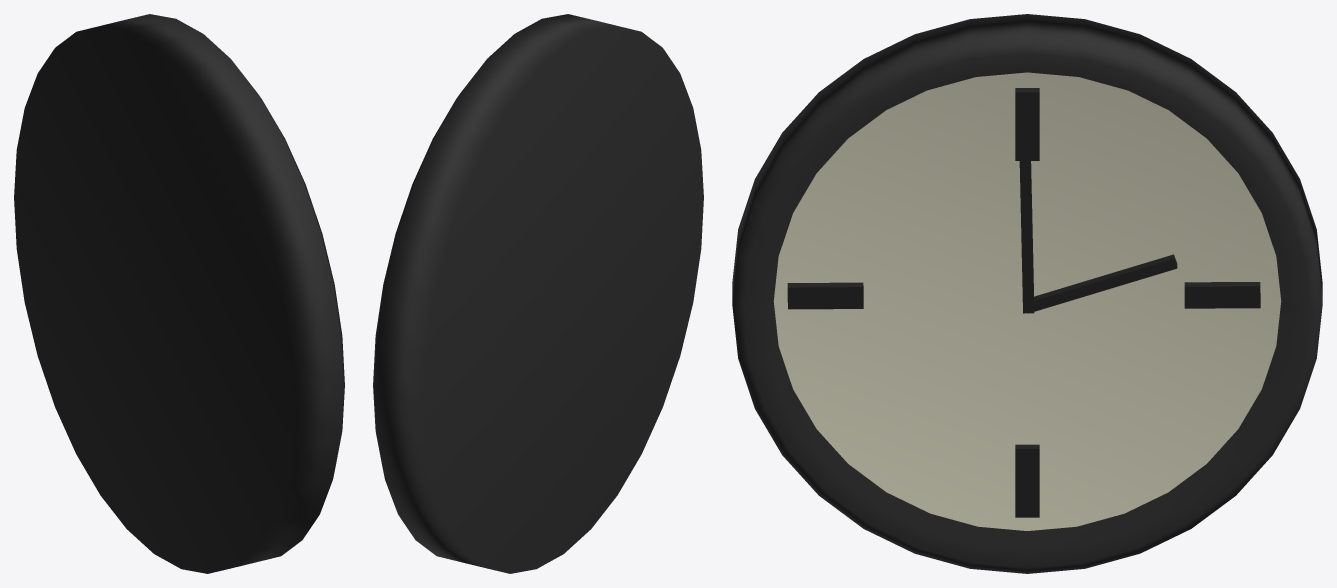
Rendered from clock 1.fbx.
The picture shows the model from 3 angles, left to right: view 1: azimuth 30°, elevation 25°; view 2: azimuth 150°, elevation 25°; view 3: azimuth 270°, elevation 25°; orthographic projection. The views are drawn at different scales.
Parts seen in each view (by area): view 1: Cylinder; view 2: Cylinder; view 3: Cylinder, Cube.005, Cube.004, Cube.003, Cube.002, Cube.001, Cube.
Boxes of the visible parts, <box> form: Cylinder: <box>14,14,344,573</box>; Cylinder: <box>373,14,703,573</box>; Cylinder: <box>732,14,1322,573</box>; Cube.005: <box>1018,102,1034,313</box>; Cube.004: <box>1028,254,1177,313</box>; Cube.003: <box>1184,282,1260,308</box>; Cube.002: <box>787,282,863,309</box>; Cube.001: <box>1015,444,1039,517</box>; Cube: <box>1015,88,1039,160</box>.
Bounding box in the file's own units: 35.27 × 304 × 304.
